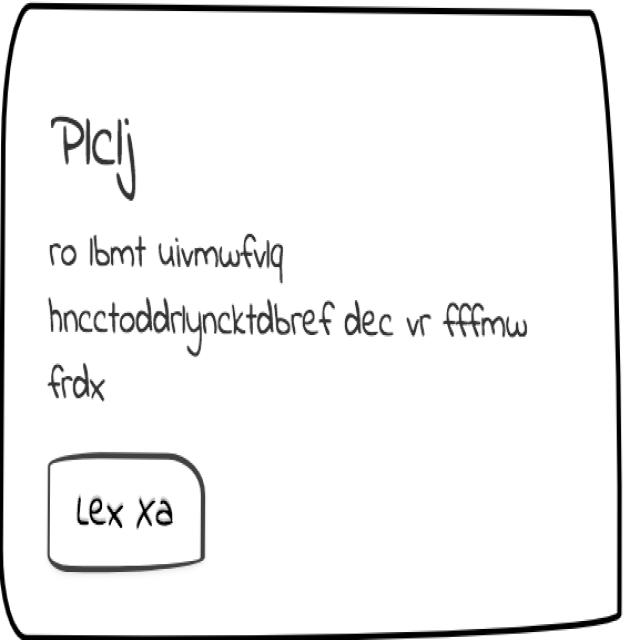Button: (35, 434, 222, 592)
Heading 6: (33, 114, 164, 208)
Paragraph: (34, 236, 578, 409)
